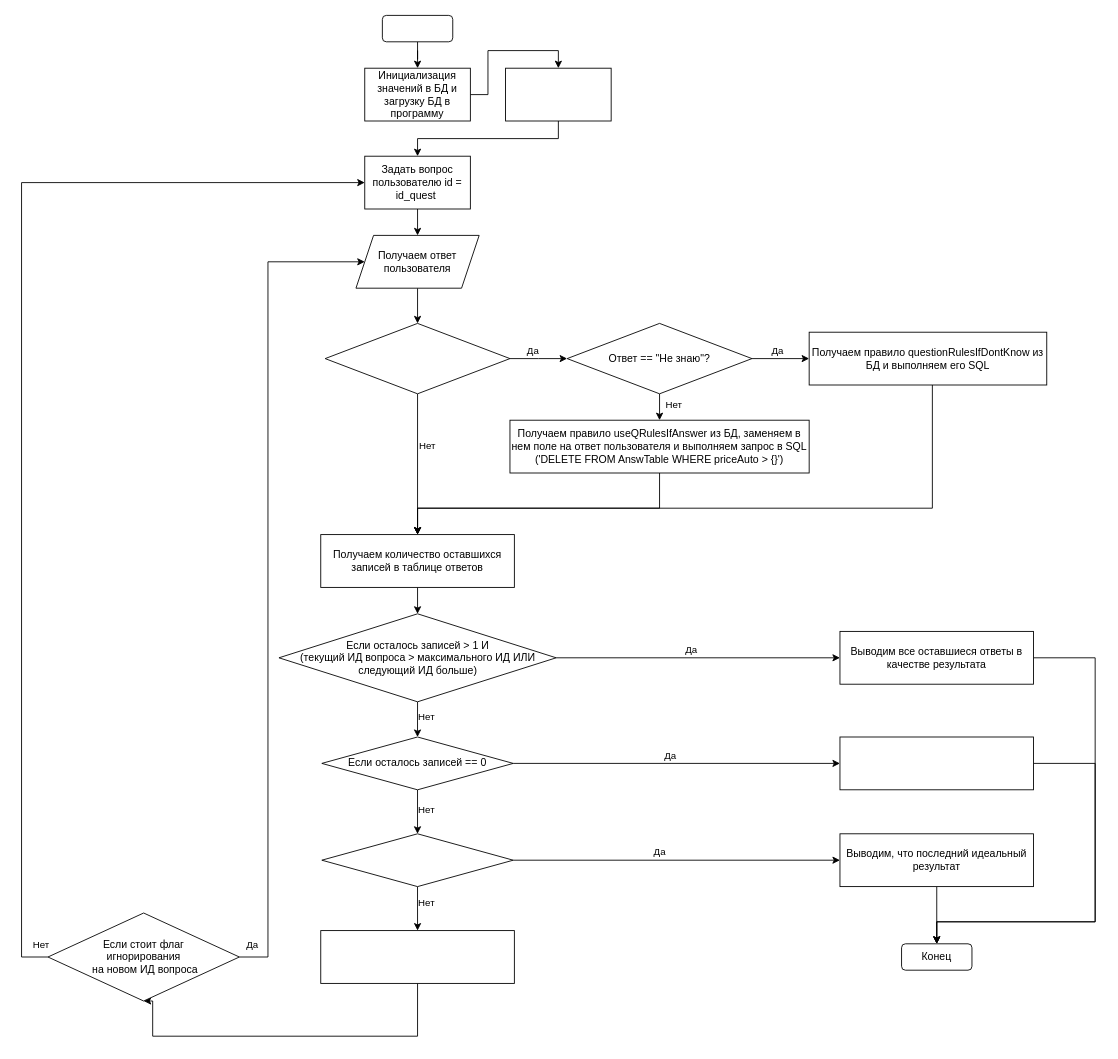
Image size: 1118x1059. Some labels were removed from this diagram. The box of each missing label's shape, as (x1, y1, x2, y2) in pixels:
id_quest = 0: (505, 67, 611, 121)
Выводим, что результатов НЕ нашлось: (839, 736, 1034, 790)
Если осталось записей == 1: (321, 833, 513, 887)
На вопросе стоит флаг игнорирования?: (324, 323, 510, 394)
Начало: (381, 15, 453, 42)
Переходим к следующему вопросу id_quest += 1: (320, 930, 514, 983)
